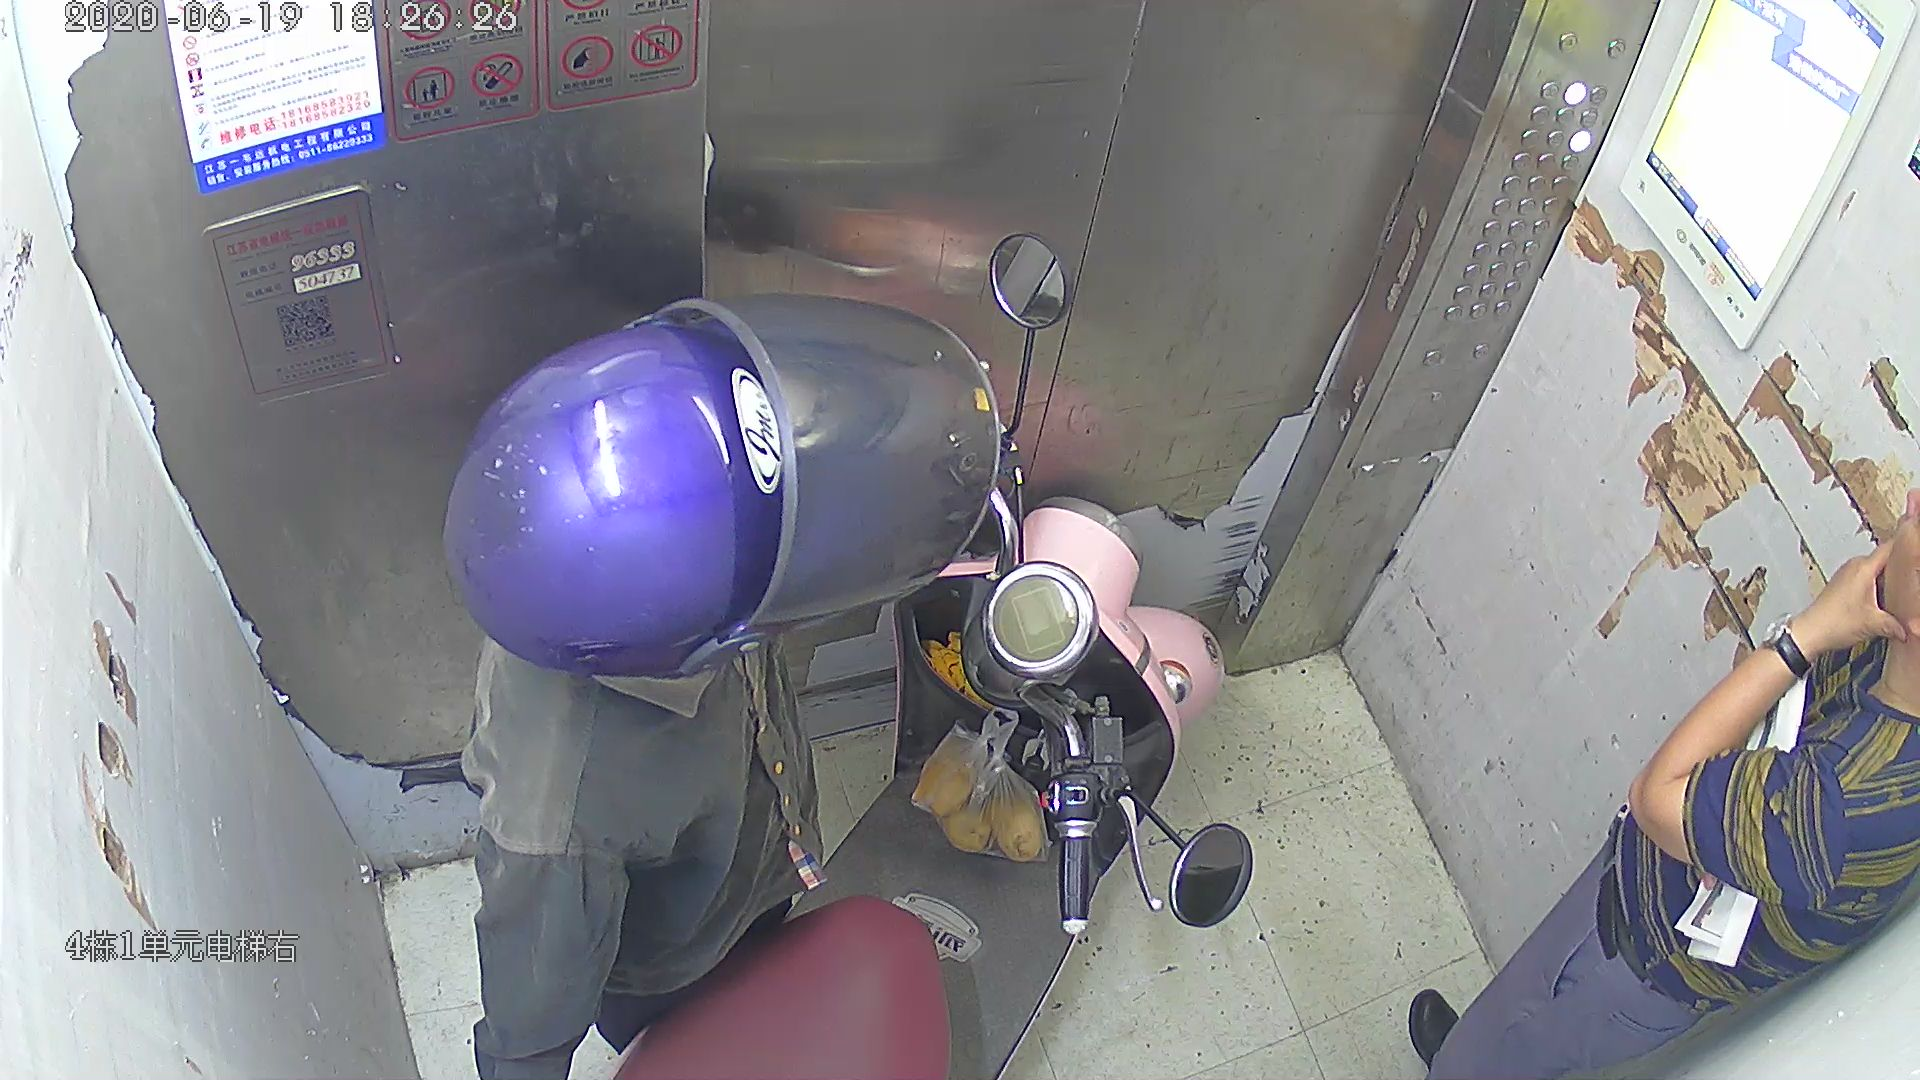Electric-bicycle: (615, 235, 1258, 1080)
